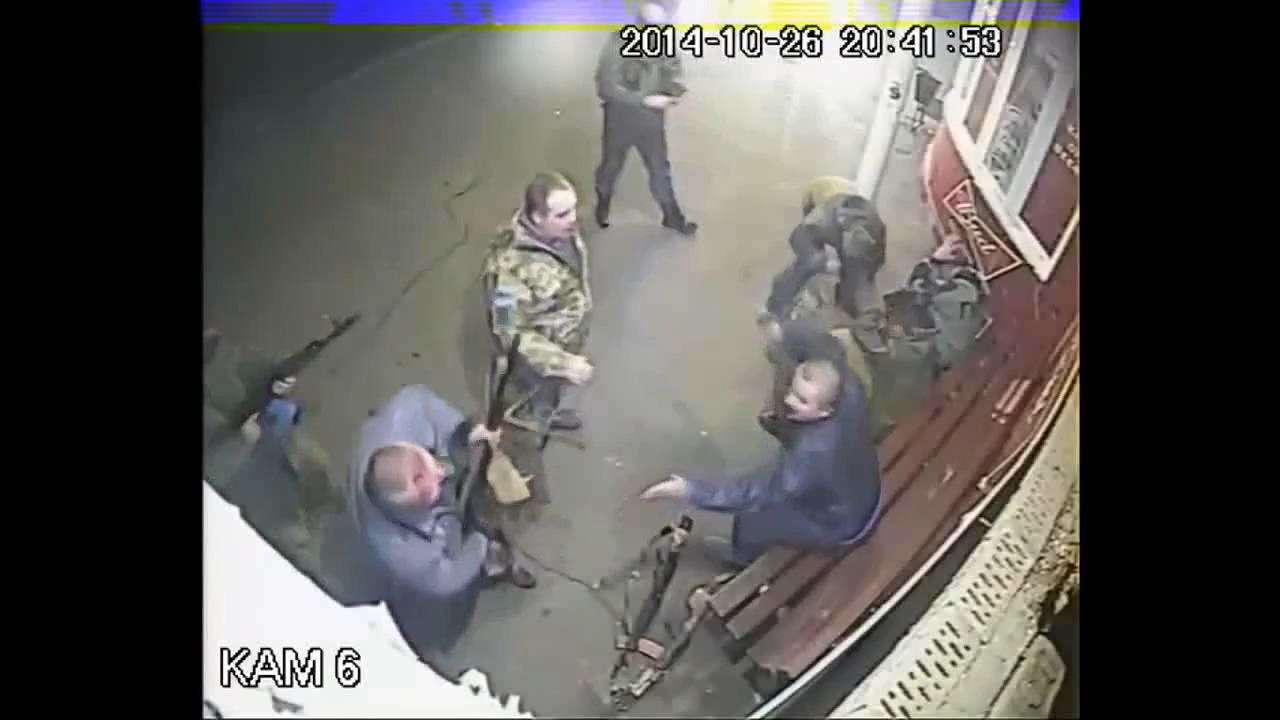non-violence: (638, 326, 875, 564), (343, 385, 540, 606), (484, 173, 598, 445), (589, 5, 698, 237), (205, 332, 347, 507), (756, 195, 890, 330), (765, 269, 882, 406), (857, 288, 942, 422), (909, 229, 991, 363)
weapon: (222, 313, 355, 434), (610, 513, 692, 681), (615, 588, 712, 703), (476, 334, 524, 490), (662, 80, 690, 109)
